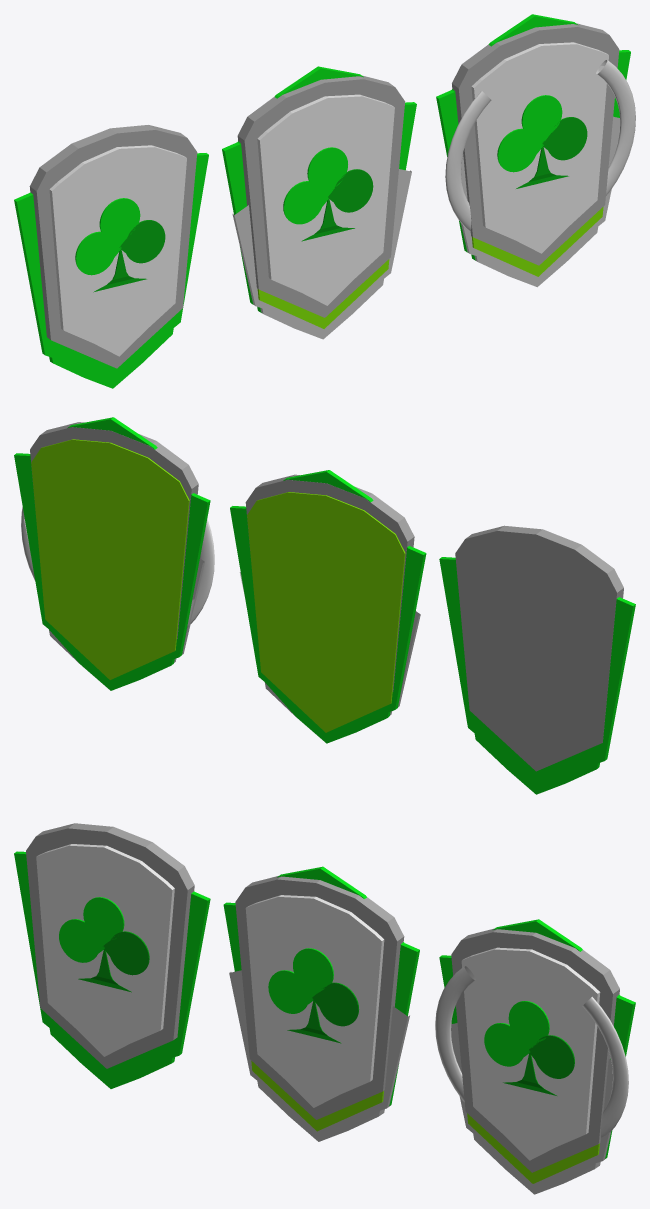
Rendered from Shield.fbx.
The picture shows the model from 3 angles, top to bottom: view 1: azimuth 30°, elevation 25°; view 2: azimuth 150°, elevation 25°; view 3: azimuth 330°, elevation 25°; orthographic projection.
Parts seen in each view (by area): view 1: Cube.005, Cube.002, Cube.012, Cube, Cube.008, Cube.015, Cube.001, Torus, Cube.006, Cube.009, Cube.011, Cube.014 (+14 smaller); view 2: Cube, Cube.010, Cube.007, Cube.001, Cube.014, Cube.009, Cube.008, Cube.015, Torus, Cube.006; view 3: Cube.002, Cube.005, Cube.012, Cube, Cube.008, Cube.015, Cube.001, Torus, Cube.006, Cube.009, Cube.011, Cube.014 (+14 smaller).
Part boxes in pixels (x1,y1,x2,y2): Cube.005: (257, 94, 394, 305); Cube.002: (49, 145, 186, 356); Cube.012: (471, 42, 608, 253); Cube: (29, 125, 197, 368); Cube.008: (237, 75, 405, 317); Cube.015: (452, 23, 619, 265); Cube.001: (14, 153, 208, 388); Torus: (445, 60, 635, 231); Cube.006: (232, 169, 411, 339); Cube.009: (222, 66, 416, 312); Cube.011: (461, 116, 620, 287); Cube.014: (436, 14, 630, 260); Cube: (455, 525, 623, 771); Cube.010: (31, 439, 189, 679); Cube.007: (247, 492, 405, 732); Cube.001: (439, 557, 635, 794); Cube.014: (14, 417, 210, 690); Cube.009: (230, 470, 426, 743); Cube.008: (245, 474, 414, 691); Cube.015: (30, 422, 198, 638); Torus: (21, 507, 214, 627); Cube.006: (239, 572, 420, 741); Cube.002: (36, 844, 174, 1056); Cube.005: (245, 895, 384, 1107); Cube.012: (461, 947, 600, 1160); Cube: (26, 823, 194, 1068); Cube.008: (235, 876, 404, 1119); Cube.015: (451, 928, 619, 1172); Cube.001: (14, 851, 210, 1088); Torus: (435, 966, 628, 1137); Cube.006: (229, 970, 409, 1141); Cube.009: (223, 866, 419, 1105); Cube.011: (451, 1023, 612, 1194); Cube.014: (439, 919, 635, 1158).
Size of the model in its own units: 1960 by 822 by 75.94.
